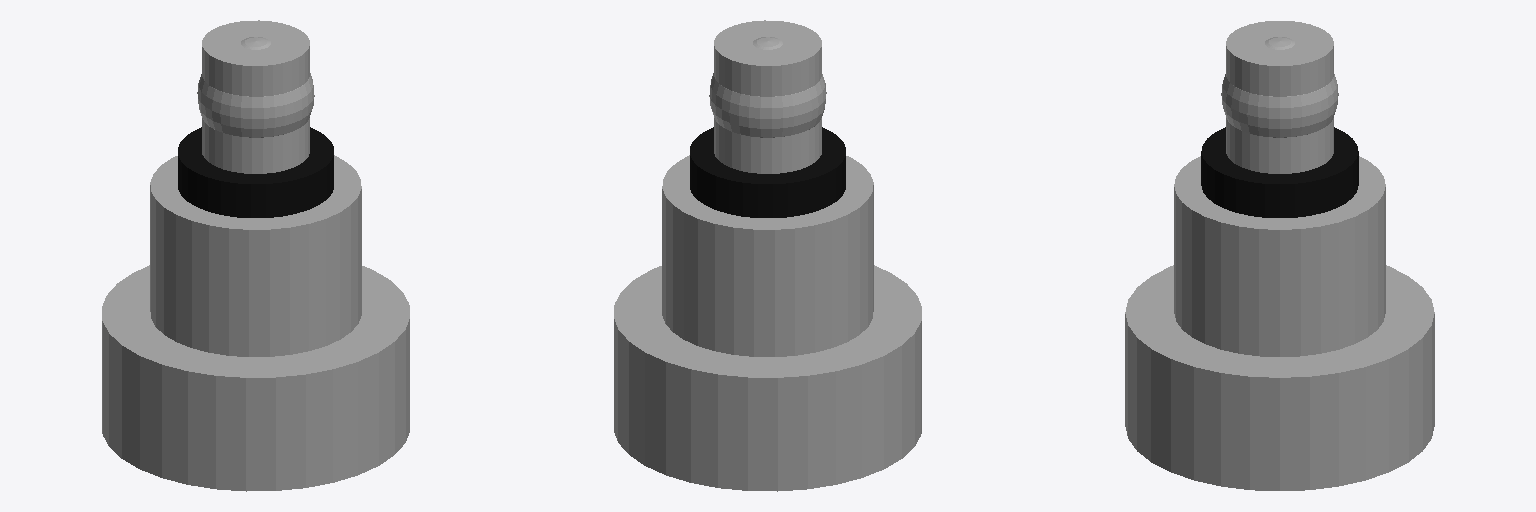
URDF robot description (evolved_robot):
<?xml version="1.0"?>
<robot name="evolved_robot">
  <material name="metal">
    <color rgba="0.7 0.7 0.7 1.0"/>
  </material>
  <material name="plastic">
    <color rgba="0.3 0.3 0.9 1.0"/>
  </material>
  <material name="rubber">
    <color rgba="0.1 0.1 0.1 1.0"/>
  </material>
  <material name="red">
    <color rgba="1.0 0.0 0.0 1.0"/>
  </material>
  <material name="wheel_material">
    <color rgba="0.2 0.2 0.2 1.0"/>
  </material>
  <link name="base_link">
    <visual>
      <geometry><cylinder radius="0.16069086020135437" length="0.1301065557292387"/></geometry>
      <material name="metal"/>
    </visual>
    <collision>
      <geometry><cylinder radius="0.16069086020135437" length="0.1301065557292387"/></geometry>
    </collision>
    <inertial>
      <mass value="5.0"/>
      <inertia ixx="0.07866031125039928" ixy="0" ixz="0" 
               iyy="0.07866031125039928" iyz="0" 
               izz="0.12910776276125607"/>
    </inertial>
  </link>
  <link name="link1">
    <visual>
      <geometry><box size="0.13418867020242448 0.08591909022609032 0.14453061571277626"/></geometry>
      <material name="rubber"/>
    </visual>
    <collision>
      <geometry><box size="0.13418867020242448 0.08591909022609032 0.14453061571277626"/></geometry>
    </collision>
    <inertial>
      <mass value="0.5"/>
      <inertia ixx="0.0023559324119661047" ixy="0" ixz="0" 
               iyy="0.0032413081740841044" iyz="0" 
               izz="0.002115724106331174"/>
    </inertial>
  </link>
  <joint name="joint1" type="fixed">
    <parent link="base_link"/>
    <child link="link1"/>
    <origin xyz="0 0 0.06505327786461935" rpy="0 0 0"/>
    <axis xyz="-0.5683316138997706 0.6543038399177311 0.49888441718597937"/>
    <dynamics damping="0.1029057953056492" friction="0.1"/>
  </joint>
  <link name="link2">
    <visual>
      <geometry><cylinder radius="0.10993525097909042" length="0.19182219904361414"/></geometry>
      <material name="metal"/>
    </visual>
    <collision>
      <geometry><cylinder radius="0.10993525097909042" length="0.19182219904361414"/></geometry>
    </collision>
    <inertial>
      <mass value="0.5"/>
      <inertia ixx="0.006087752855786226" ixy="0" ixz="0" 
               iyy="0.006087752855786226" iyz="0" 
               izz="0.0060428797039178"/>
    </inertial>
  </link>
  <joint name="joint2" type="floating">
    <parent link="base_link"/>
    <child link="link2"/>
    <origin xyz="0 0 0.11505327786461936" rpy="0 0 0"/>
    <axis xyz="-0.5041731583712482 0.48815088000124596 -0.7124030774301648"/>
    <dynamics damping="0.12578708678342743" friction="0.1"/>
  </joint>
  <link name="link3">
    <visual>
      <geometry><cylinder radius="0.08164965642623613" length="0.16976906113014034"/></geometry>
      <material name="rubber"/>
    </visual>
    <collision>
      <geometry><cylinder radius="0.08164965642623613" length="0.16976906113014034"/></geometry>
    </collision>
    <inertial>
      <mass value="0.5"/>
      <inertia ixx="0.004068461108381378" ixy="0" ixz="0" 
               iyy="0.004068461108381378" iyz="0" 
               izz="0.0033333331972612017"/>
    </inertial>
  </link>
  <joint name="joint3" type="floating">
    <parent link="base_link"/>
    <child link="link3"/>
    <origin xyz="0 0 0.16505327786461937" rpy="0 0 0"/>
    <axis xyz="0.49317600671729234 0.7708723087581292 0.40315420125343704"/>
    <dynamics damping="0.6041715049229968" friction="0.1"/>
  </joint>
  <link name="link4">
    <visual>
      <geometry><sphere radius="0.04384822215266718"/></geometry>
      <material name="metal"/>
    </visual>
    <collision>
      <geometry><sphere radius="0.04384822215266718"/></geometry>
    </collision>
    <inertial>
      <mass value="0.5"/>
      <inertia ixx="0.000769066634379861" ixy="0" ixz="0" 
               iyy="0.000769066634379861" iyz="0" 
               izz="0.000769066634379861"/>
    </inertial>
  </link>
  <joint name="joint4" type="prismatic">
    <parent link="base_link"/>
    <child link="link4"/>
    <origin xyz="0 0 0.21505327786461936" rpy="0 0 0"/>
    <axis xyz="-0.44155416081648213 0.7002001604206751 0.5610255416757003"/>
    <dynamics damping="0.39116741689795687" friction="0.1"/>
    <limit lower="-1.7139746193075147" upper="2.6350249001616186" effort="100" velocity="100"/>
  </joint>
  <link name="link5">
    <visual>
      <geometry><cylinder radius="0.056196796538329305" length="0.21701985515282202"/></geometry>
      <material name="metal"/>
    </visual>
    <collision>
      <geometry><cylinder radius="0.056196796538329305" length="0.21701985515282202"/></geometry>
    </collision>
    <inertial>
      <mass value="0.5"/>
      <inertia ixx="0.004714321446171916" ixy="0" ixz="0" 
               iyy="0.004714321446171916" iyz="0" 
               izz="0.0015790399705851903"/>
    </inertial>
  </link>
  <joint name="joint5" type="floating">
    <parent link="base_link"/>
    <child link="link5"/>
    <origin xyz="0 0 0.26505327786461935" rpy="0 0 0"/>
    <axis xyz="-0.5458957571543982 0.8326276618116261 0.09342911273757734"/>
    <dynamics damping="0.5907926047945831" friction="0.1"/>
  </joint>
  <link name="link6">
    <visual>
      <geometry><sphere radius="0.06092791577671576"/></geometry>
      <material name="metal"/>
    </visual>
    <collision>
      <geometry><sphere radius="0.06092791577671576"/></geometry>
    </collision>
    <inertial>
      <mass value="0.5"/>
      <inertia ixx="0.0014848843683578279" ixy="0" ixz="0" 
               iyy="0.0014848843683578279" iyz="0" 
               izz="0.0014848843683578279"/>
    </inertial>
  </link>
  <joint name="joint6" type="fixed">
    <parent link="base_link"/>
    <child link="link6"/>
    <origin xyz="0 0 0.31505327786461934" rpy="0 0 0"/>
    <axis xyz="-0.36199013213675785 0.7793601723974896 0.5114302160766099"/>
    <dynamics damping="0.47740478372994777" friction="0.1"/>
  </joint>
</robot>

--- Render facts (derived) ---
The picture shows the robot from 3 angles, left to right: view 1: azimuth 30°, elevation 25°; view 2: azimuth 150°, elevation 25°; view 3: azimuth 270°, elevation 25°; orthographic projection.
Model evolved_robot with 7 links and 6 joints (1 prismatic, 2 fixed, 3 floating), rooted at base_link, posed every joint at zero.
Links seen in each view (by area): view 1: base_link, link2, link5, link3, link6; view 2: base_link, link2, link5, link3, link6; view 3: base_link, link2, link5, link3, link6.
Boxes of the visible links, box(x1,y1,x2,y2) form: base_link: box(102, 265, 409, 491); link2: box(150, 155, 361, 356); link5: box(202, 20, 309, 173); link3: box(178, 127, 333, 217); link6: box(197, 37, 314, 137); base_link: box(614, 265, 921, 491); link2: box(662, 155, 873, 356); link5: box(714, 20, 821, 173); link3: box(690, 127, 845, 217); link6: box(709, 37, 826, 137); base_link: box(1125, 265, 1434, 490); link2: box(1174, 156, 1385, 356); link5: box(1226, 21, 1333, 173); link3: box(1201, 127, 1358, 217); link6: box(1221, 37, 1338, 137).
Bounding box of the posed robot: 0.3214 × 0.3214 × 0.441 m (x, y, z).
Geometry: primitives only (box / cylinder / sphere), no mesh files.